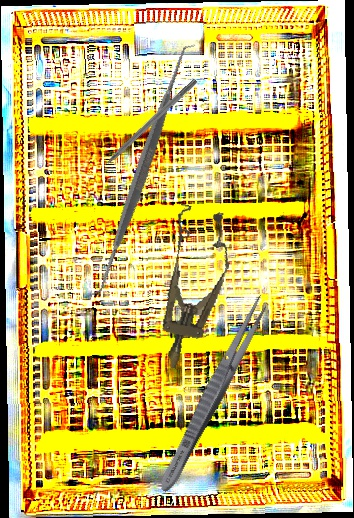Dressing Forceps: (153, 290, 274, 497)
Hook Surgical: (91, 77, 199, 177)
Spatula Surgical: (16, 43, 267, 299)
Speculum: (141, 202, 241, 376)
